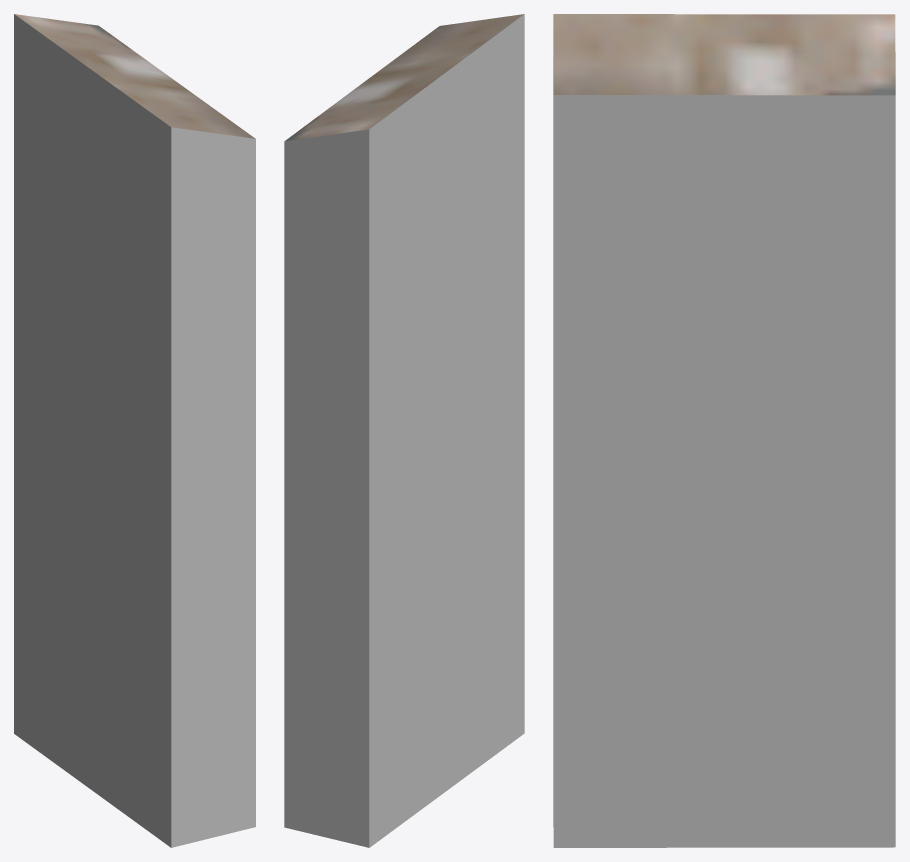
File: DEBW_0010007THZu.gltf
3 views of the same model, side by side, from view 1: azimuth 30°, elevation 25°; view 2: azimuth 150°, elevation 25°; view 3: azimuth 270°, elevation 25° (orthographic). The views are drawn at different scales.
Visible parts, largest first — view 1: Z_UP; view 2: Z_UP; view 3: Z_UP.
Part boxes in pixels (left/top/right/bottom): Z_UP: left=14, top=14, right=255, bottom=847; Z_UP: left=284, top=14, right=524, bottom=847; Z_UP: left=553, top=14, right=895, bottom=847.
Size of the model in its own units: 1.82 by 14.6 by 5.75.
Materials: 2 (1 with a texture image).
